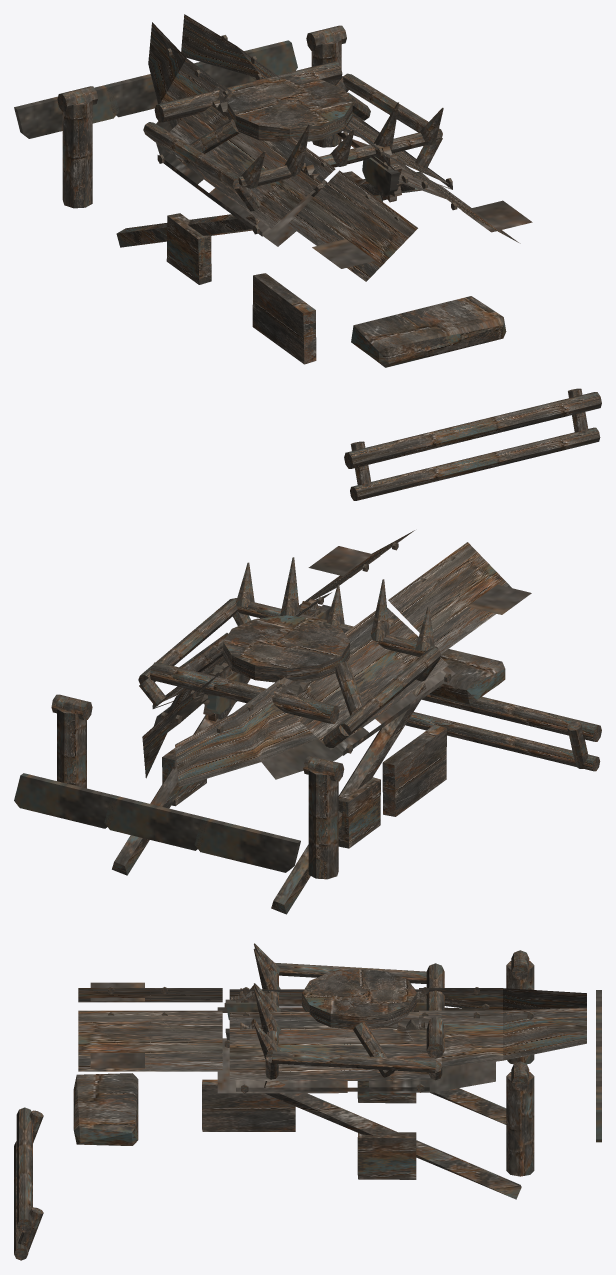
Rendered from scarab.glb.
3 views of the same model, one above another, from view 1: azimuth 30°, elevation 25°; view 2: azimuth 150°, elevation 25°; view 3: azimuth 270°, elevation 25° (orthographic). The views are drawn at different scales.
Parts seen in each view (by area): view 1: kit-full-plating-painted-metal, kit-bull-bar-painted-metal, kit-turret-mount-painted-metal, kit-scrapper-painted-metal, kit-plate-2-painted-metal, kit-cage-painted-metal, kit-stack-0-painted-metal, kit-plate-3-painted-metal, kit-plate-1-painted-metal, kit-crown-painted-metal, kit-raider-painted-metal, warlord-crossbar (+3 smaller); view 2: kit-full-plating-painted-metal, kit-turret-mount-painted-metal, kit-plate-3-painted-metal, kit-scrapper-painted-metal, kit-plate-2-painted-metal, kit-bull-bar-painted-metal, kit-cage-painted-metal, kit-stack-0-painted-metal, warlord-crossbar, kit-raider-painted-metal, kit-crown-painted-metal, kit-stack-1-painted-metal (+3 smaller); view 3: kit-full-plating-painted-metal, kit-scrapper-painted-metal, kit-plate-0-painted-metal, kit-plate-1-painted-metal, kit-turret-mount-painted-metal, kit-cage-painted-metal, kit-raider-painted-metal, kit-bull-bar-painted-metal, kit-stack-1-painted-metal, kit-plate-3-painted-metal, kit-plate-2-painted-metal, kit-crown-painted-metal (+3 smaller).
Boxes of the visible parts, x1,y1,x2,y2 form: kit-full-plating-painted-metal: (14, 40, 532, 367); kit-bull-bar-painted-metal: (344, 388, 601, 500); kit-turret-mount-painted-metal: (181, 76, 370, 163); kit-scrapper-painted-metal: (157, 72, 449, 228); kit-plate-2-painted-metal: (287, 170, 417, 281); kit-cage-painted-metal: (143, 73, 442, 211); kit-stack-0-painted-metal: (57, 86, 97, 208); kit-plate-3-painted-metal: (148, 22, 231, 129); kit-plate-1-painted-metal: (181, 14, 279, 78); kit-crown-painted-metal: (241, 102, 443, 188); kit-raider-painted-metal: (156, 73, 445, 246); warlord-crossbar: (154, 61, 342, 122); kit-full-plating-painted-metal: (14, 546, 531, 914); kit-turret-mount-painted-metal: (179, 615, 366, 721); kit-plate-3-painted-metal: (175, 679, 317, 786); kit-scrapper-painted-metal: (152, 592, 448, 750); kit-plate-2-painted-metal: (388, 542, 511, 653); kit-bull-bar-painted-metal: (405, 694, 601, 771); kit-cage-painted-metal: (138, 598, 441, 747); kit-stack-0-painted-metal: (303, 756, 344, 879); warlord-crossbar: (149, 662, 339, 723); kit-raider-painted-metal: (154, 666, 455, 779); kit-crown-painted-metal: (236, 557, 434, 650); kit-stack-1-painted-metal: (51, 694, 92, 788); kit-full-plating-painted-metal: (73, 982, 601, 1199); kit-scrapper-painted-metal: (229, 987, 441, 1080); kit-plate-0-painted-metal: (78, 1010, 222, 1071); kit-plate-1-painted-metal: (419, 1007, 586, 1068); kit-turret-mount-painted-metal: (302, 968, 416, 1077); kit-cage-painted-metal: (265, 963, 442, 1080); kit-raider-painted-metal: (217, 1003, 495, 1093); kit-bull-bar-painted-metal: (14, 1107, 43, 1260); kit-stack-1-painted-metal: (506, 1061, 534, 1176); kit-plate-3-painted-metal: (419, 987, 586, 1010); kit-plate-2-painted-metal: (78, 987, 222, 1002); kit-crown-painted-metal: (253, 943, 280, 1058).
Size of the model in its own units: 2.01 by 1.79 by 3.96.
1 material, 1 textured.
